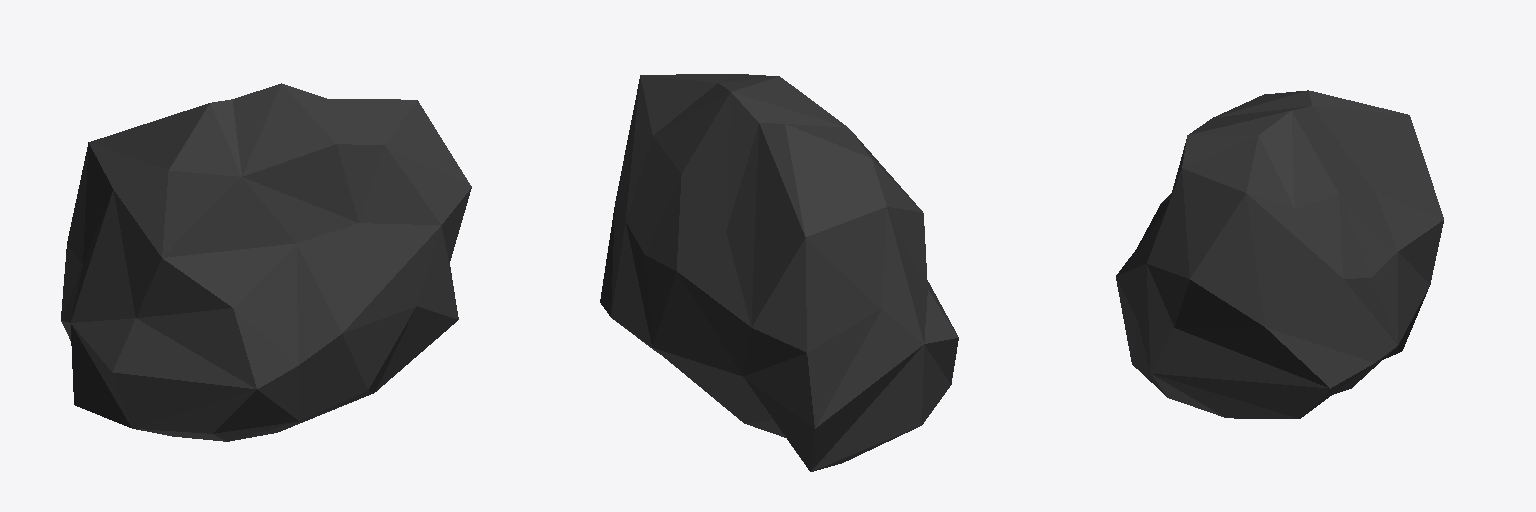
Rendered from Ast5.obj.
3 views of the same model, side by side, from view 1: azimuth 30°, elevation 25°; view 2: azimuth 150°, elevation 25°; view 3: azimuth 270°, elevation 25° (orthographic).
Parts seen in each view (by area): view 1: Asteroid_2.003; view 2: Asteroid_2.003; view 3: Asteroid_2.003.
Part boxes in pixels (x1,y1,x2,y2): Asteroid_2.003: (61, 83, 471, 441); Asteroid_2.003: (600, 74, 958, 471); Asteroid_2.003: (1116, 90, 1443, 418).
Size of the model in its own units: 92.21 by 82.9 by 76.8.